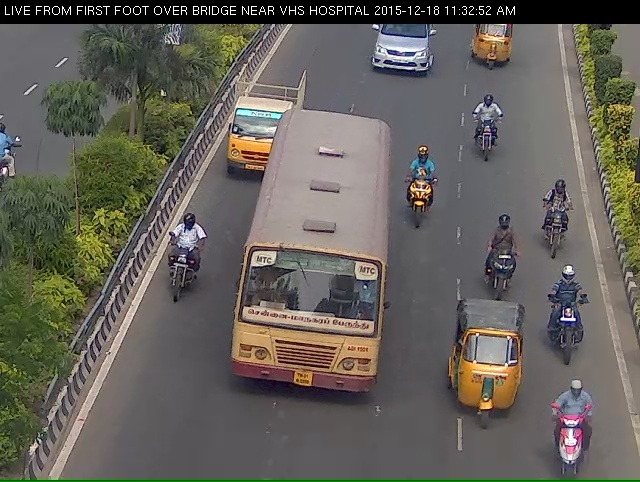Bus: (253, 114, 386, 426)
Car: (442, 310, 529, 456), (218, 69, 318, 187), (366, 18, 447, 95), (469, 17, 532, 80)
Person: (148, 232, 211, 327), (547, 282, 593, 385), (466, 102, 523, 179), (399, 160, 442, 243), (538, 186, 582, 267), (553, 403, 595, 481), (485, 235, 527, 312)
